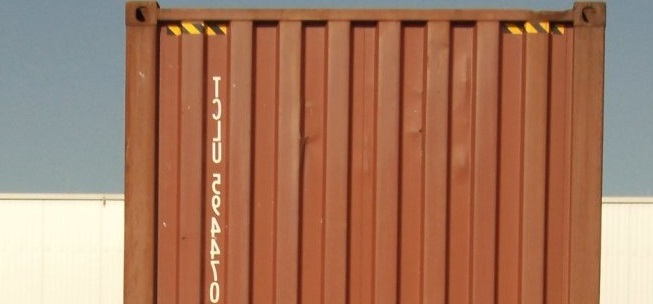container_no_door: (123, 2, 598, 304)
